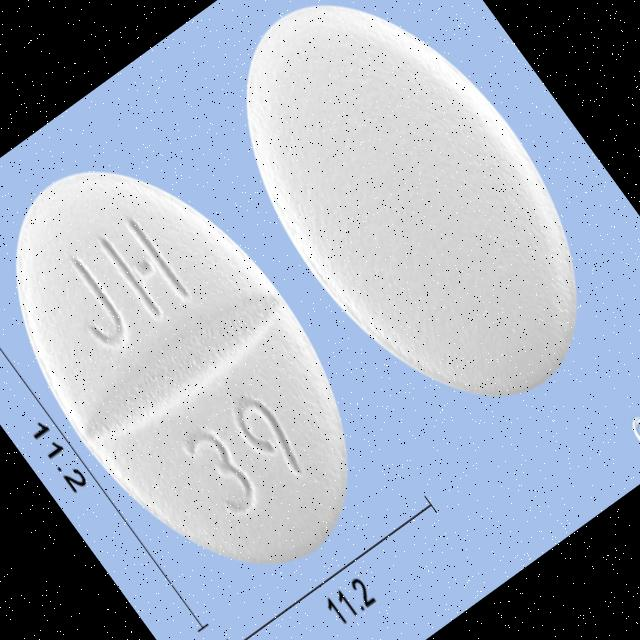Ciflox - 250mg: (0, 102, 419, 627)
